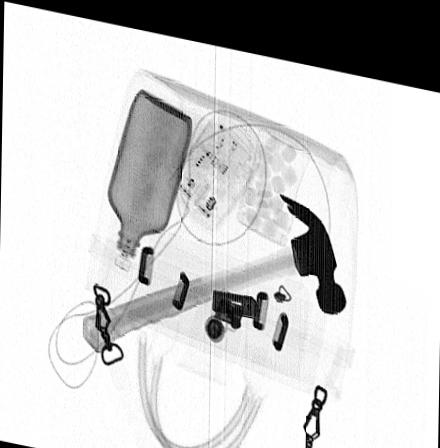Hammer: (80, 182, 346, 349)
